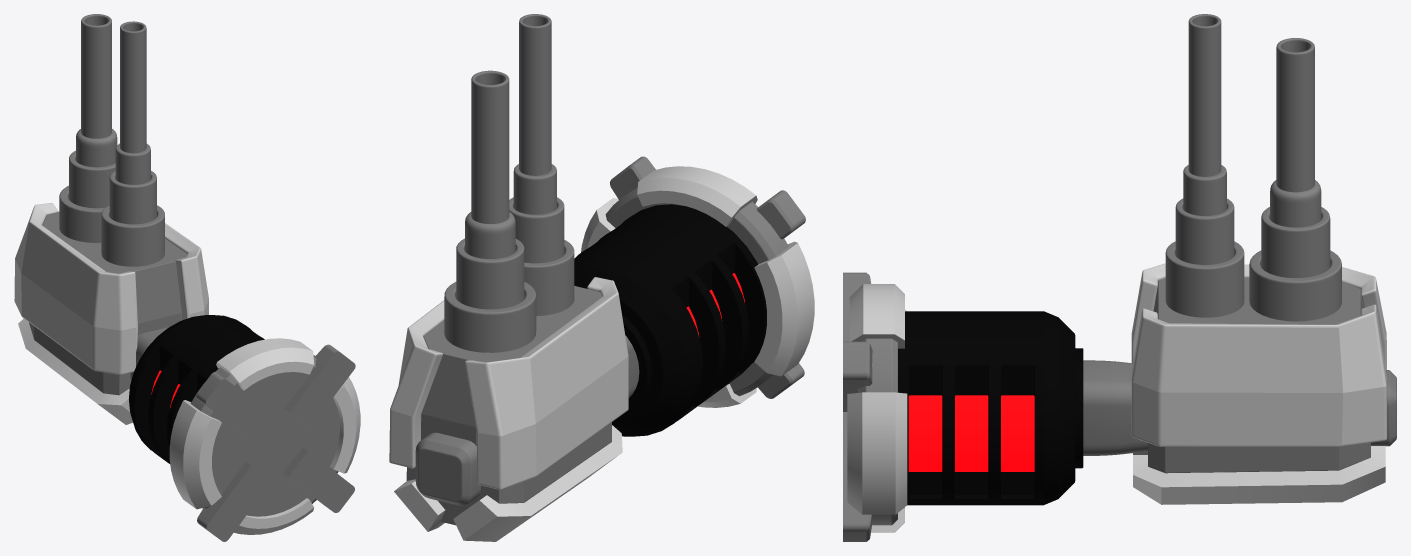
The model's file is LaserShooter4.fbx.
The picture shows the model from 3 angles, left to right: view 1: azimuth 30°, elevation 25°; view 2: azimuth 150°, elevation 25°; view 3: azimuth 270°, elevation 25°; orthographic projection. The views are drawn at different scales.
Visible parts, largest first — view 1: ok, Cylinder.002, Cylinder.005, Cube.004, Cylinder.001, Cylinder.004, Cylinder.006_Plate, Cylinder.006_Plate.003, Cylinder.006_Plate.005, Cube.007, Cube.006, Cube.005 (+8 smaller); view 2: Cylinder.005, ok, Cube.004, Cylinder.001, Cylinder.006_Plate, Cube.009, Cylinder.006_Plate.003, Cylinder.004, Cube.003, Cylinder.006_Plate.002, Cylinder.006_Plate.001, Cylinder.002 (+7 smaller); view 3: ok, Cylinder.005, Cube.009, Cube.004, Cylinder.007, Cylinder.001, Cylinder.006_Plate, Cube.003, Cylinder.006_Plate.003, Cylinder.006_Plate.005, Cylinder.006_Plate.002, Cylinder.006_Plate.001 (+8 smaller).
Part boxes in pixels (x1,y1,x2,y2): ok: (14,203,208,374); Cylinder.002: (190,355,339,516); Cylinder.005: (129,315,264,463); Cube.004: (29,212,187,395); Cylinder.001: (169,377,360,509); Cylinder.004: (216,338,314,534); Cylinder.006_Plate: (81,14,111,138); Cylinder.006_Plate.003: (120,21,146,153); Cylinder.006_Plate.005: (101,205,164,266); Cube.007: (284,344,355,427); Cube.006: (197,461,271,541); Cube.005: (196,372,272,440); Cylinder.005: (574,204,766,436); ok: (389,277,628,489); Cube.004: (406,286,611,525); Cylinder.001: (581,197,814,376); Cylinder.006_Plate: (471,70,509,223); Cube.009: (394,425,622,541); Cylinder.006_Plate.003: (519,14,551,175); Cylinder.004: (637,166,757,407); Cube.003: (415,335,639,505); Cylinder.006_Plate.002: (444,282,536,352); Cylinder.006_Plate.001: (456,238,524,309); Cylinder.002: (605,187,788,396); ok: (1131,263,1386,446); Cylinder.005: (898,311,1083,505); Cube.009: (1133,446,1385,504); Cube.004: (1148,277,1370,473); Cylinder.007: (908,395,1034,471); Cylinder.001: (847,309,907,514); Cylinder.006_Plate: (1276,38,1314,192); Cube.003: (1083,360,1396,455); Cylinder.006_Plate.003: (1188,14,1221,176); Cylinder.006_Plate.005: (1165,241,1244,317); Cylinder.006_Plate.002: (1249,250,1341,321); Cylinder.006_Plate.001: (1261,207,1330,277).
Size of the model in its own units: 1249 by 2723 by 2730.
